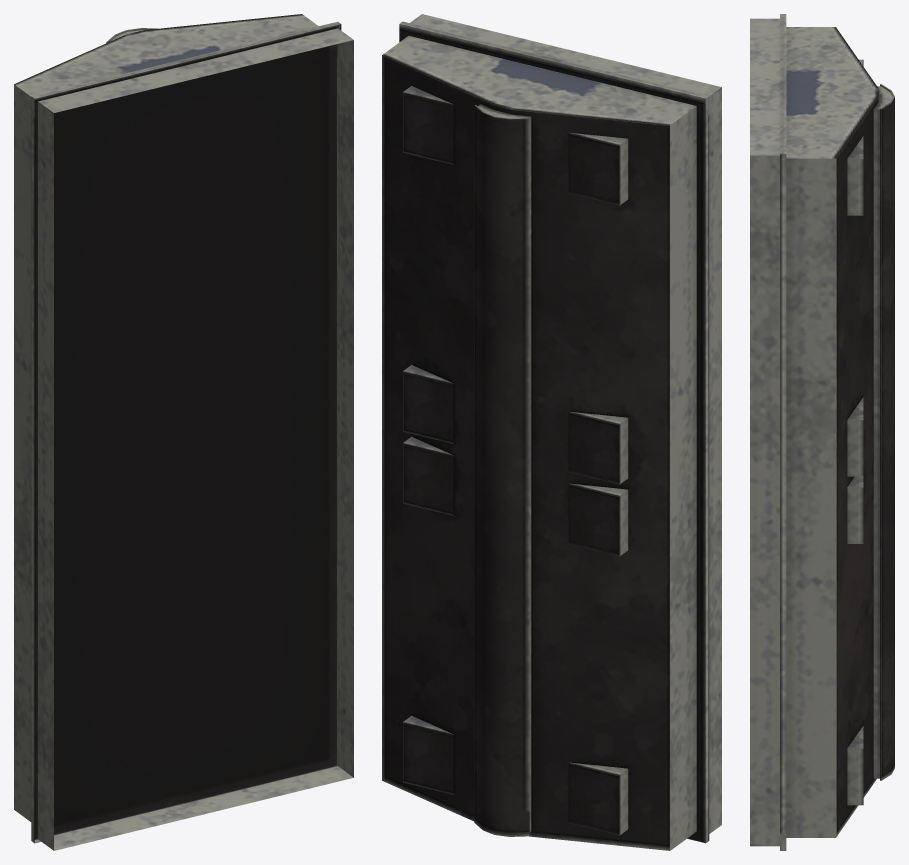
Rendered from house_big_warehouse.fbx.
3 views of the same model, side by side, from view 1: azimuth 30°, elevation 25°; view 2: azimuth 150°, elevation 25°; view 3: azimuth 270°, elevation 25° (orthographic). The views are drawn at different scales.
Parts seen in each view (by area): view 1: house_big_warehouse; view 2: house_big_warehouse; view 3: house_big_warehouse.
Part boxes in pixels (left/top/right/bottom): house_big_warehouse: left=14, top=14, right=353, bottom=850; house_big_warehouse: left=382, top=14, right=721, bottom=850; house_big_warehouse: left=750, top=14, right=894, bottom=850.
Size of the model in its own units: 922 by 2141 by 403.
